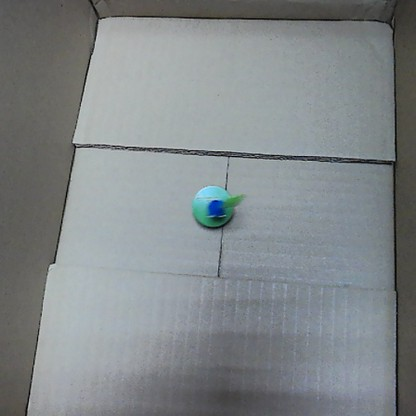leafairy: (186, 178, 245, 229)
